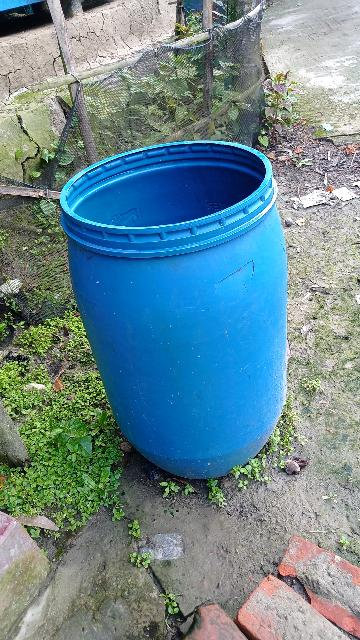hardplastic: (58, 136, 334, 483)
